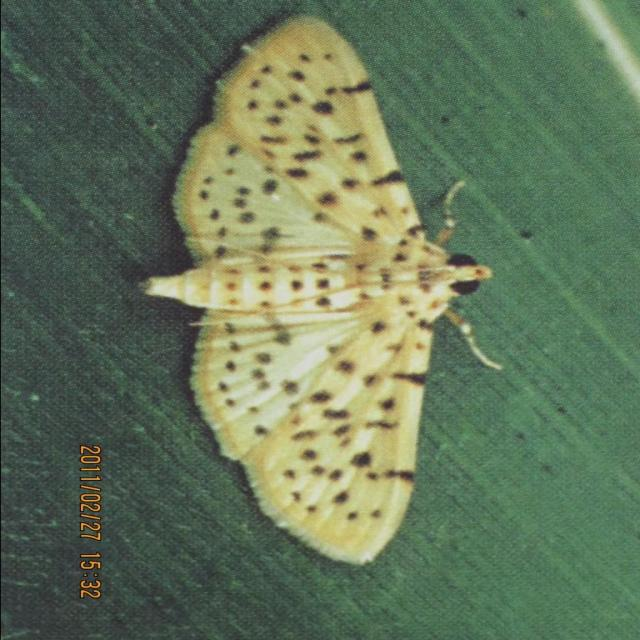peach borer: (124, 13, 508, 571)
